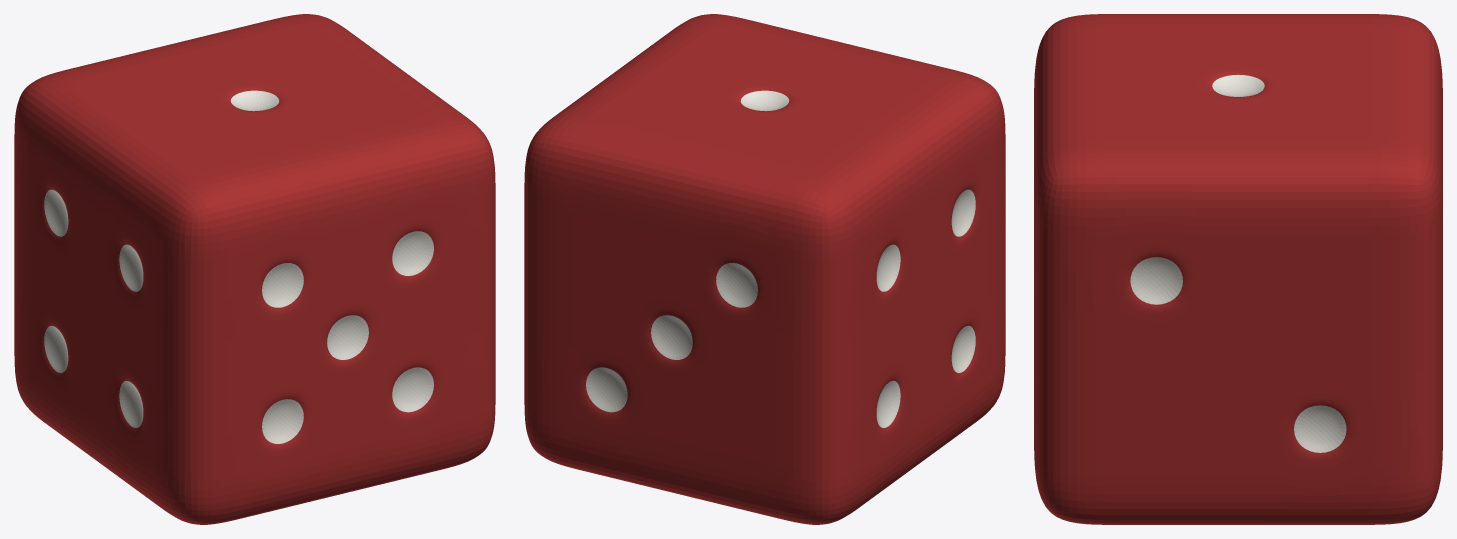
Rendered from Dice4.glb.
3 views of the same model, side by side, from view 1: azimuth 30°, elevation 25°; view 2: azimuth 150°, elevation 25°; view 3: azimuth 270°, elevation 25° (orthographic). The views are drawn at different scales.
Parts seen in each view (by area): view 1: Cube; view 2: Cube; view 3: Cube.
Part boxes in pixels (x1=…): Cube: x1=14, y1=14, x2=495, y2=524; Cube: x1=524, y1=14, x2=1005, y2=524; Cube: x1=1034, y1=14, x2=1442, y2=524.
Size of the model in its own units: 2 by 2 by 2.
